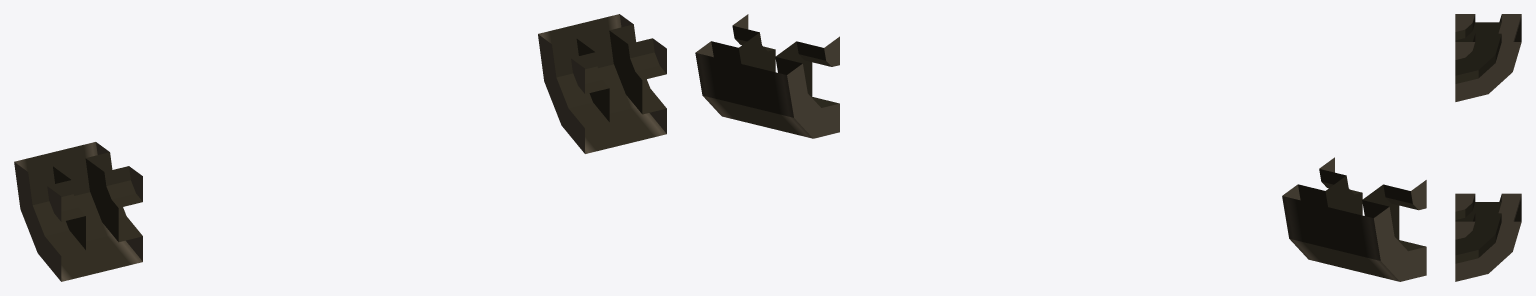
Rendered from RoadVerticalUnion.fbx.
3 renders of one model, left to right at view 1: azimuth 30°, elevation 25°; view 2: azimuth 150°, elevation 25°; view 3: azimuth 270°, elevation 25°, orthographic. The views are drawn at different scales.
Visible parts, largest first — view 1: RoadUnion; view 2: RoadUnion; view 3: RoadUnion.
Boxes of the visible parts, <box> form: RoadUnion: <box>14,14,666,281</box>; RoadUnion: <box>695,14,1426,281</box>; RoadUnion: <box>1455,14,1521,281</box>.
Size of the model in its own units: 231 by 31.25 by 31.25.
